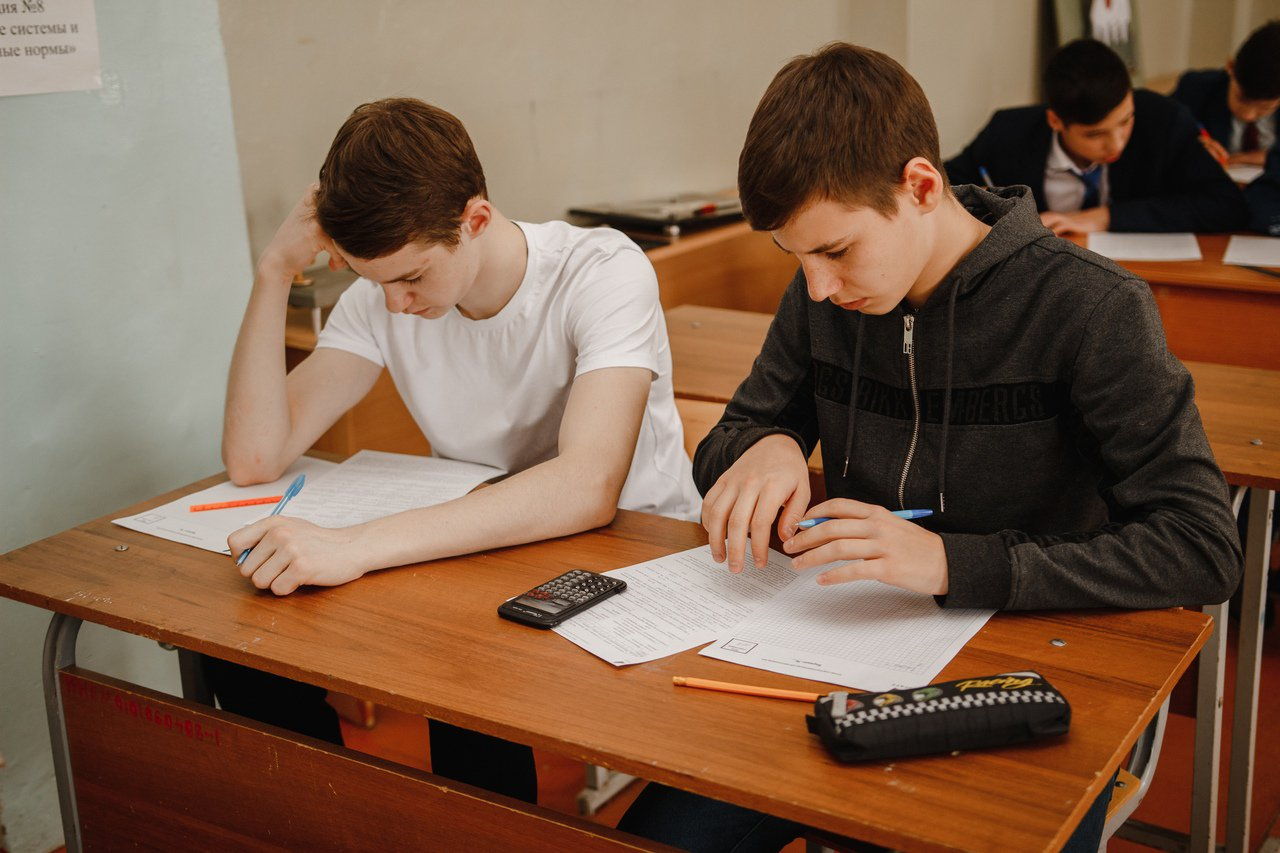students: (692, 40, 1244, 616), (220, 95, 697, 602), (941, 38, 1250, 235), (1166, 19, 1280, 158)
